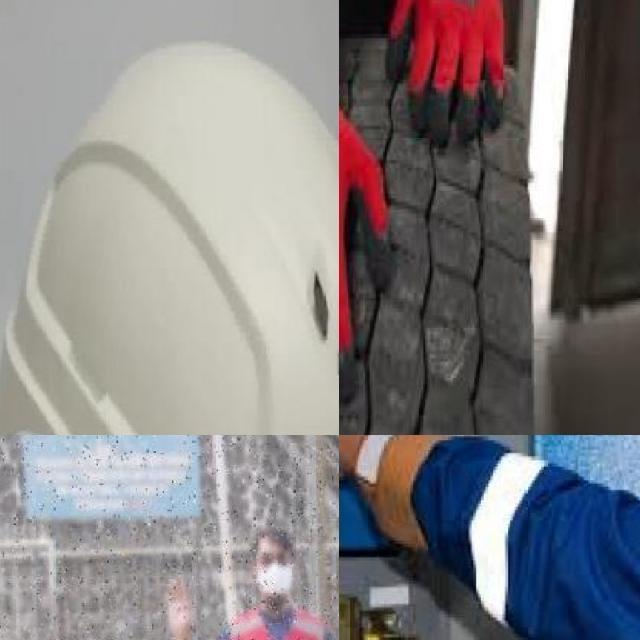apron: (339, 17, 388, 424), (385, 0, 518, 148), (339, 435, 438, 544)
